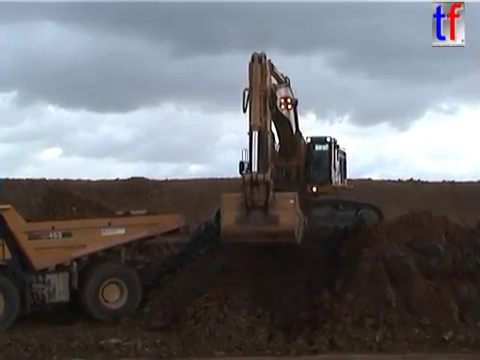excavator: (210, 48, 386, 251)
truck: (1, 201, 188, 333)
